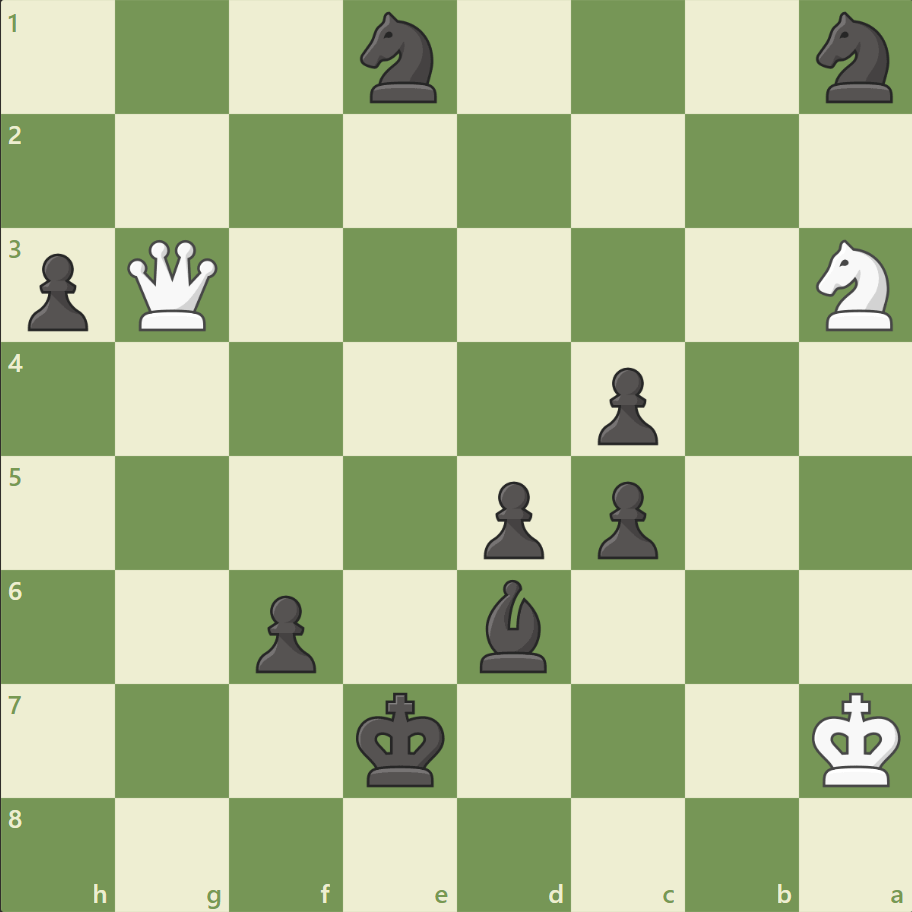K: (806, 685, 906, 793)
N: (806, 234, 903, 337)
Q: (124, 236, 223, 335)
b: (471, 574, 555, 676)
k: (351, 685, 451, 793)
n: (351, 7, 449, 110), (806, 7, 903, 110)
p: (247, 586, 322, 677), (474, 473, 549, 564), (20, 246, 95, 337), (588, 473, 662, 564), (588, 359, 662, 450)
